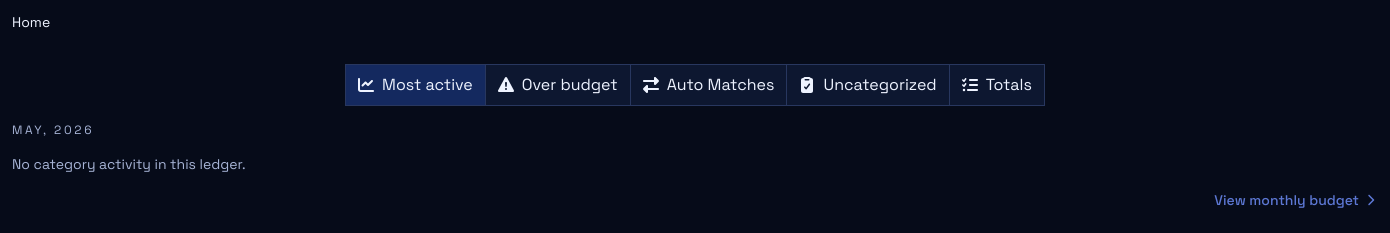
Test: dashboard workspace › shows an all-caught-up message when no uncategorized transactions remain
Click the tab "Uncategorized". click: (868, 85)
box: top-left (786, 65), bottom-right (949, 105)
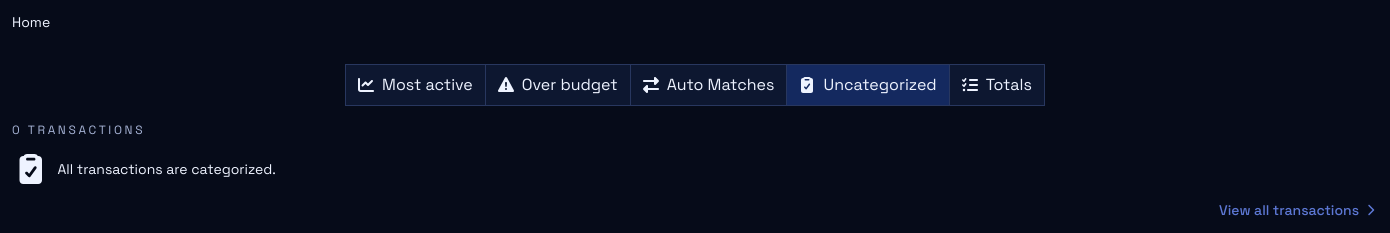
Expected: the text "All transactions are categorized." is shown, top-left (58, 159), bottom-right (276, 179)
